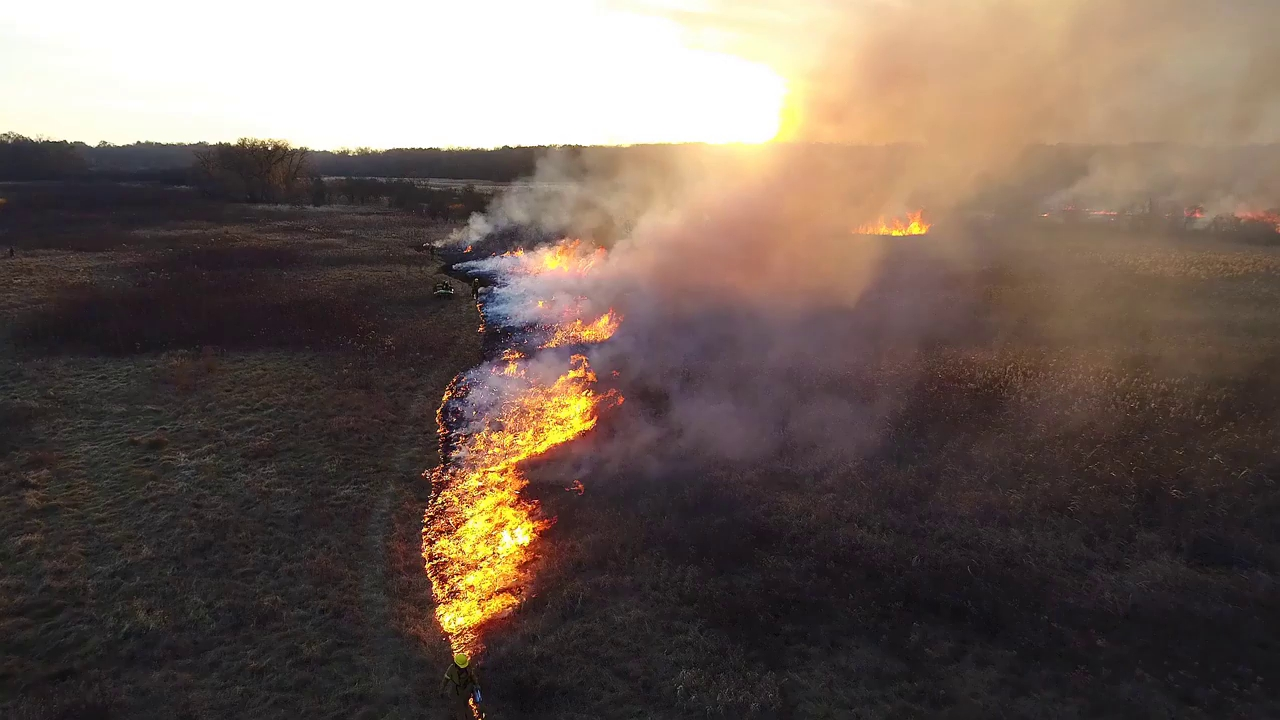forest_fire: (422, 239, 622, 657), (855, 211, 930, 236)
